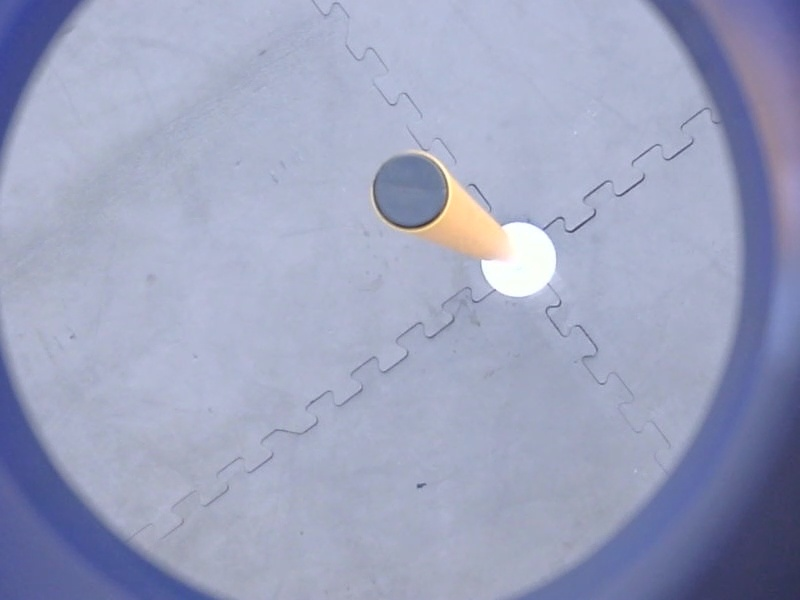tip: (364, 146, 457, 236)
